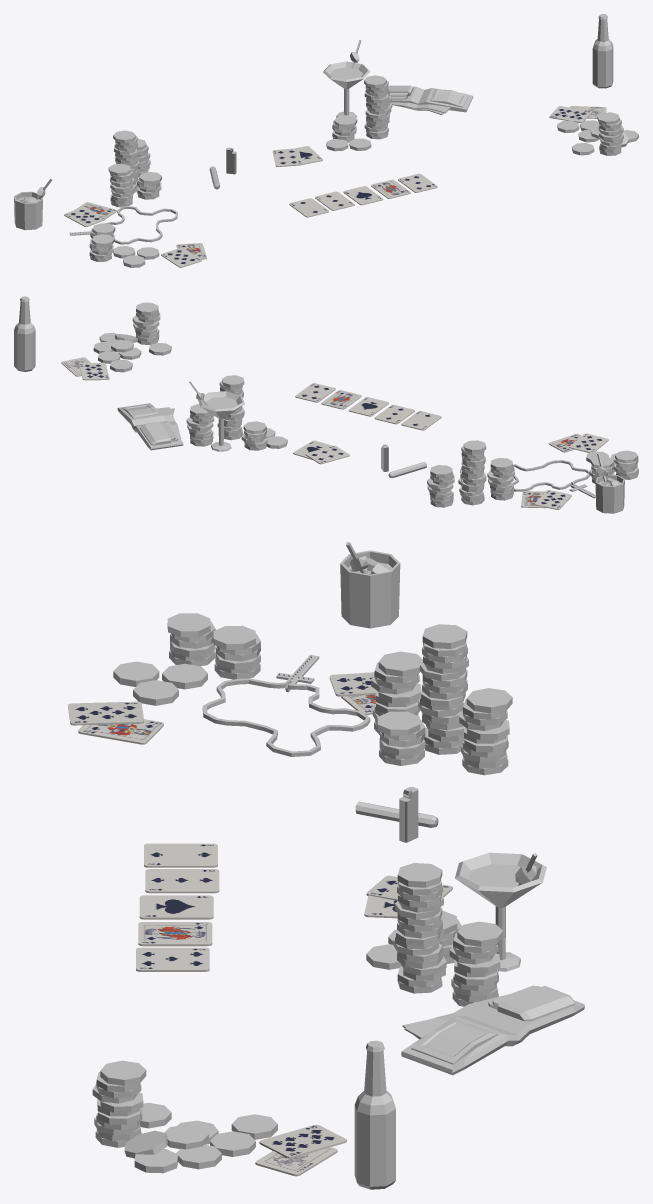
The model's file is SM_Prop_Poker_Table_01_Insert_02.fbx.
3 renders of one model, top to bottom at view 1: azimuth 30°, elevation 25°; view 2: azimuth 150°, elevation 25°; view 3: azimuth 270°, elevation 25°, orthographic. The views are drawn at different scales.
Visible parts, largest first — view 1: SM_Prop_Poker_Table_01_Insert_02; view 2: SM_Prop_Poker_Table_01_Insert_02; view 3: SM_Prop_Poker_Table_01_Insert_02.
Part boxes in pixels (bbox=[...]): SM_Prop_Poker_Table_01_Insert_02: bbox=[14, 14, 638, 267]; SM_Prop_Poker_Table_01_Insert_02: bbox=[14, 296, 638, 513]; SM_Prop_Poker_Table_01_Insert_02: bbox=[68, 542, 584, 1189].
Size of the model in its own units: 304 by 37.03 by 114.
